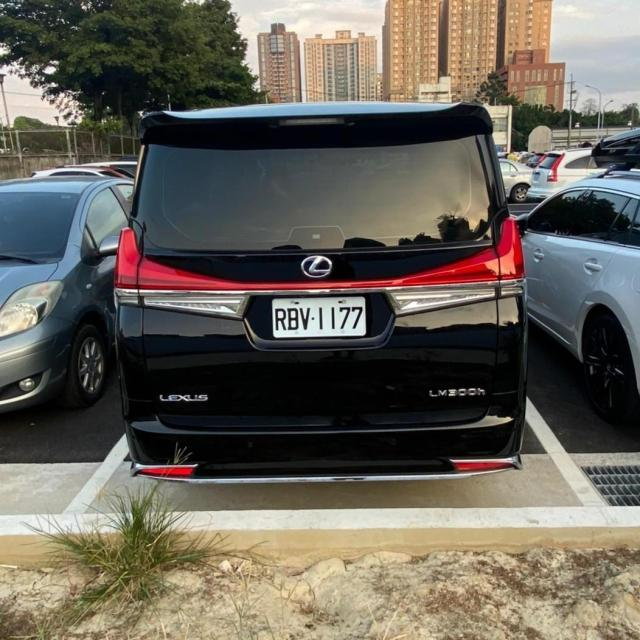W: (269, 292, 370, 344)
